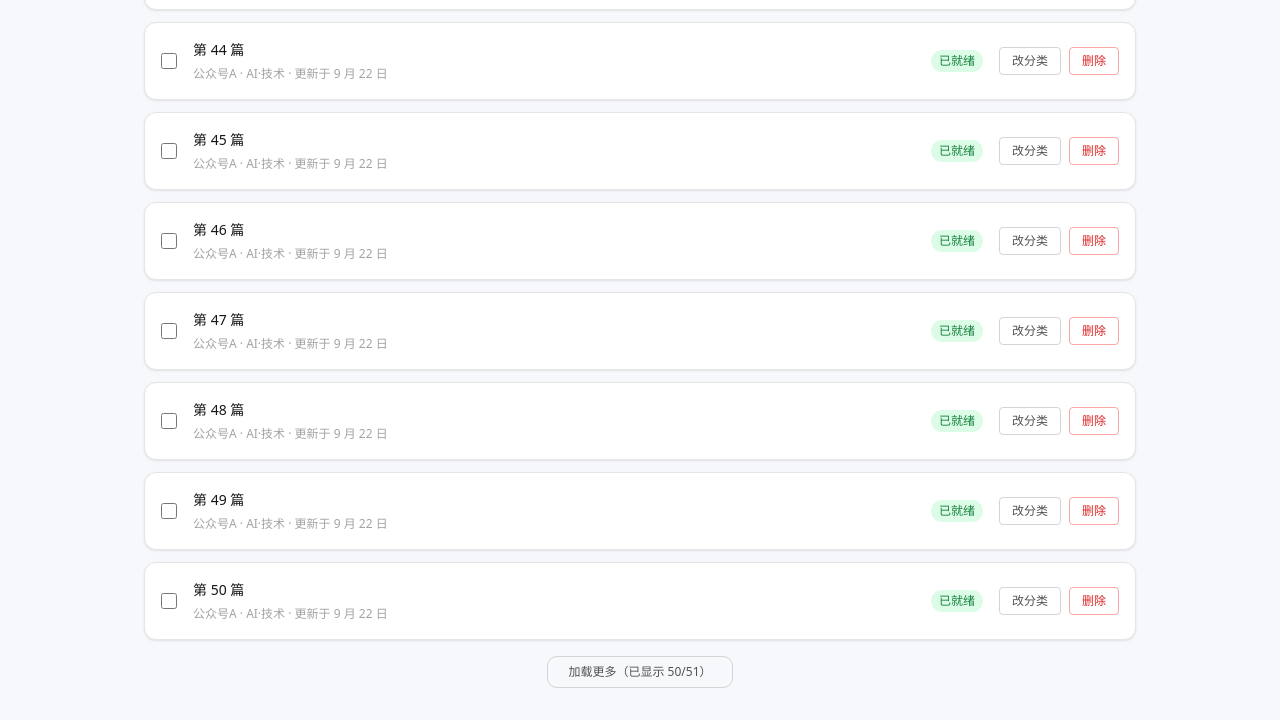
Test case: R0.2.6 批量删除：ids 按 50 上限切片 › 勾选 51 篇 → 分 2 批请求（50 + 1），顺序与总篇数守恒，成功篇退出选中
(page scrolled)
Click the button "加载更多（已显示 50/51）": (640, 672) [548,656,732,688]
(page scrolled)
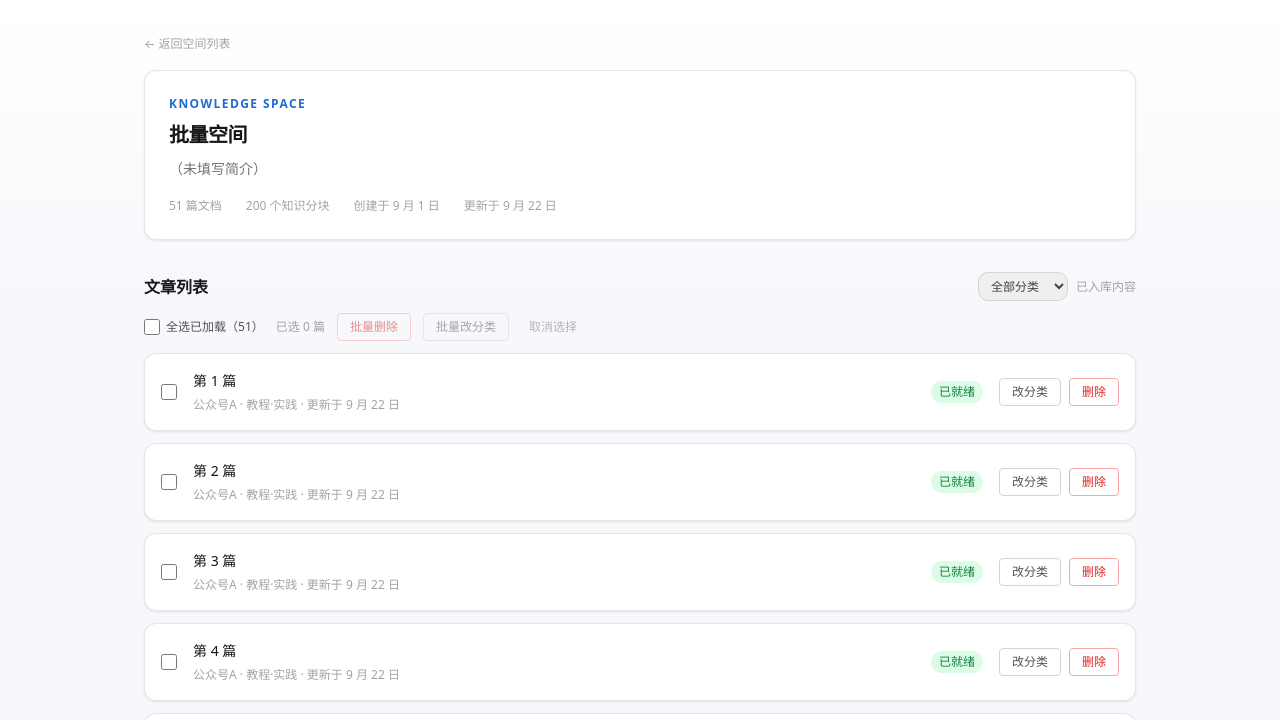
Click the checkbox labelled "全选已加载": (152, 327) [144,319,160,335]
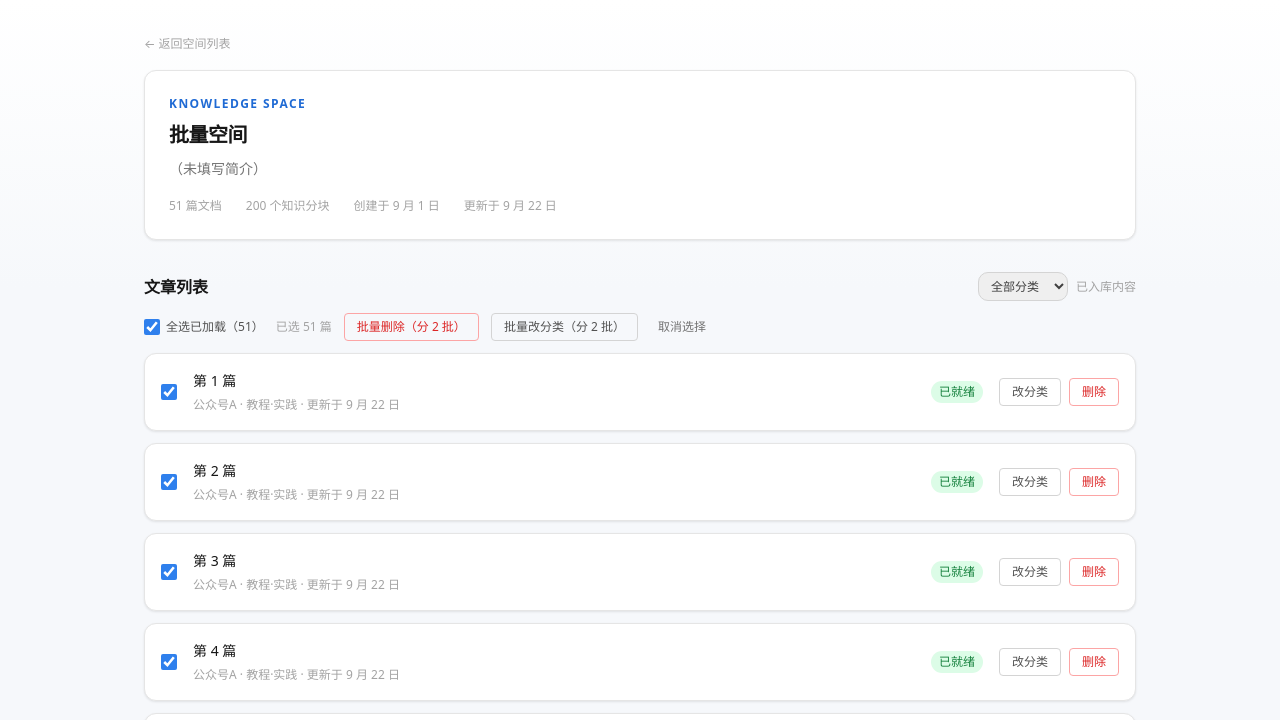
Check: the text "已选 51 篇" is shown, box [276,318,332,336]
Click the button "批量删除（分 2 批）": (411, 327) [344,313,479,341]
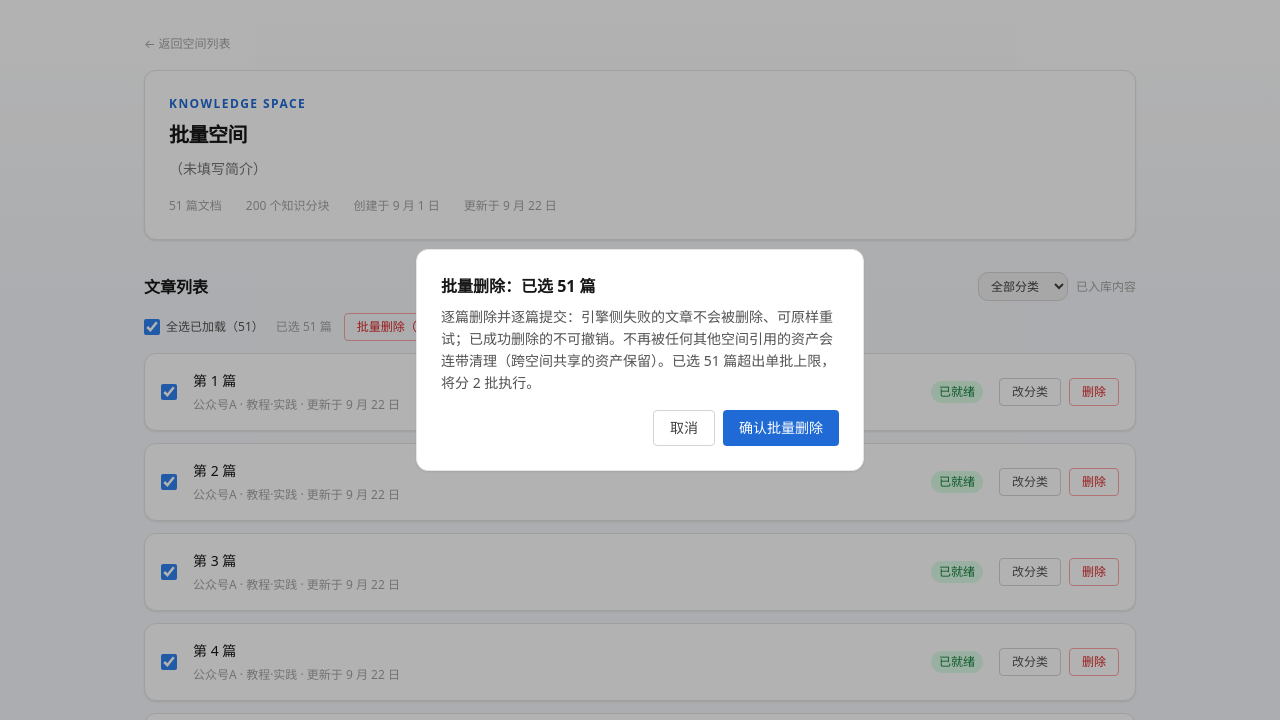
Click the button "确认批量删除": (781, 428) [723,410,839,446]
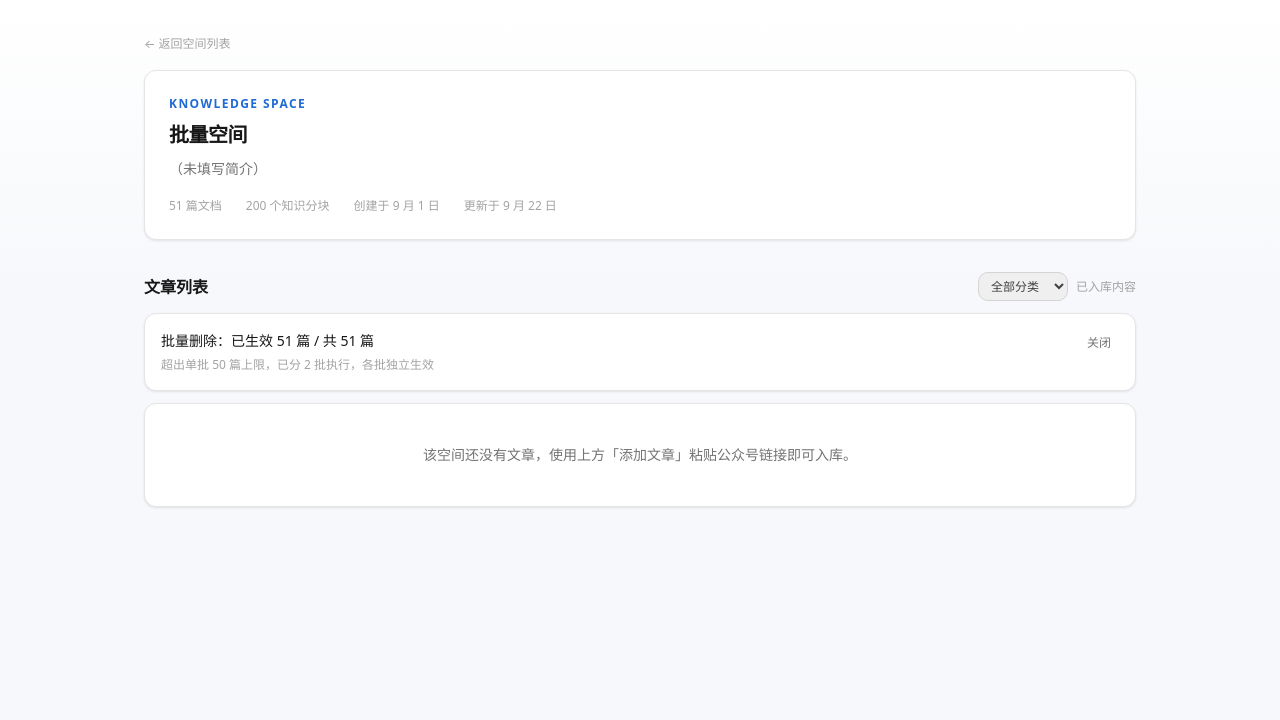
Check: the text "批量删除：已生效 51 篇 / 共 51 篇" is shown, box [161,331,374,350]
Check: the text "该空间还没有文章，使用上方「添加文章」粘贴公众号链接即可入库。" is shown, box [144,403,1136,507]
